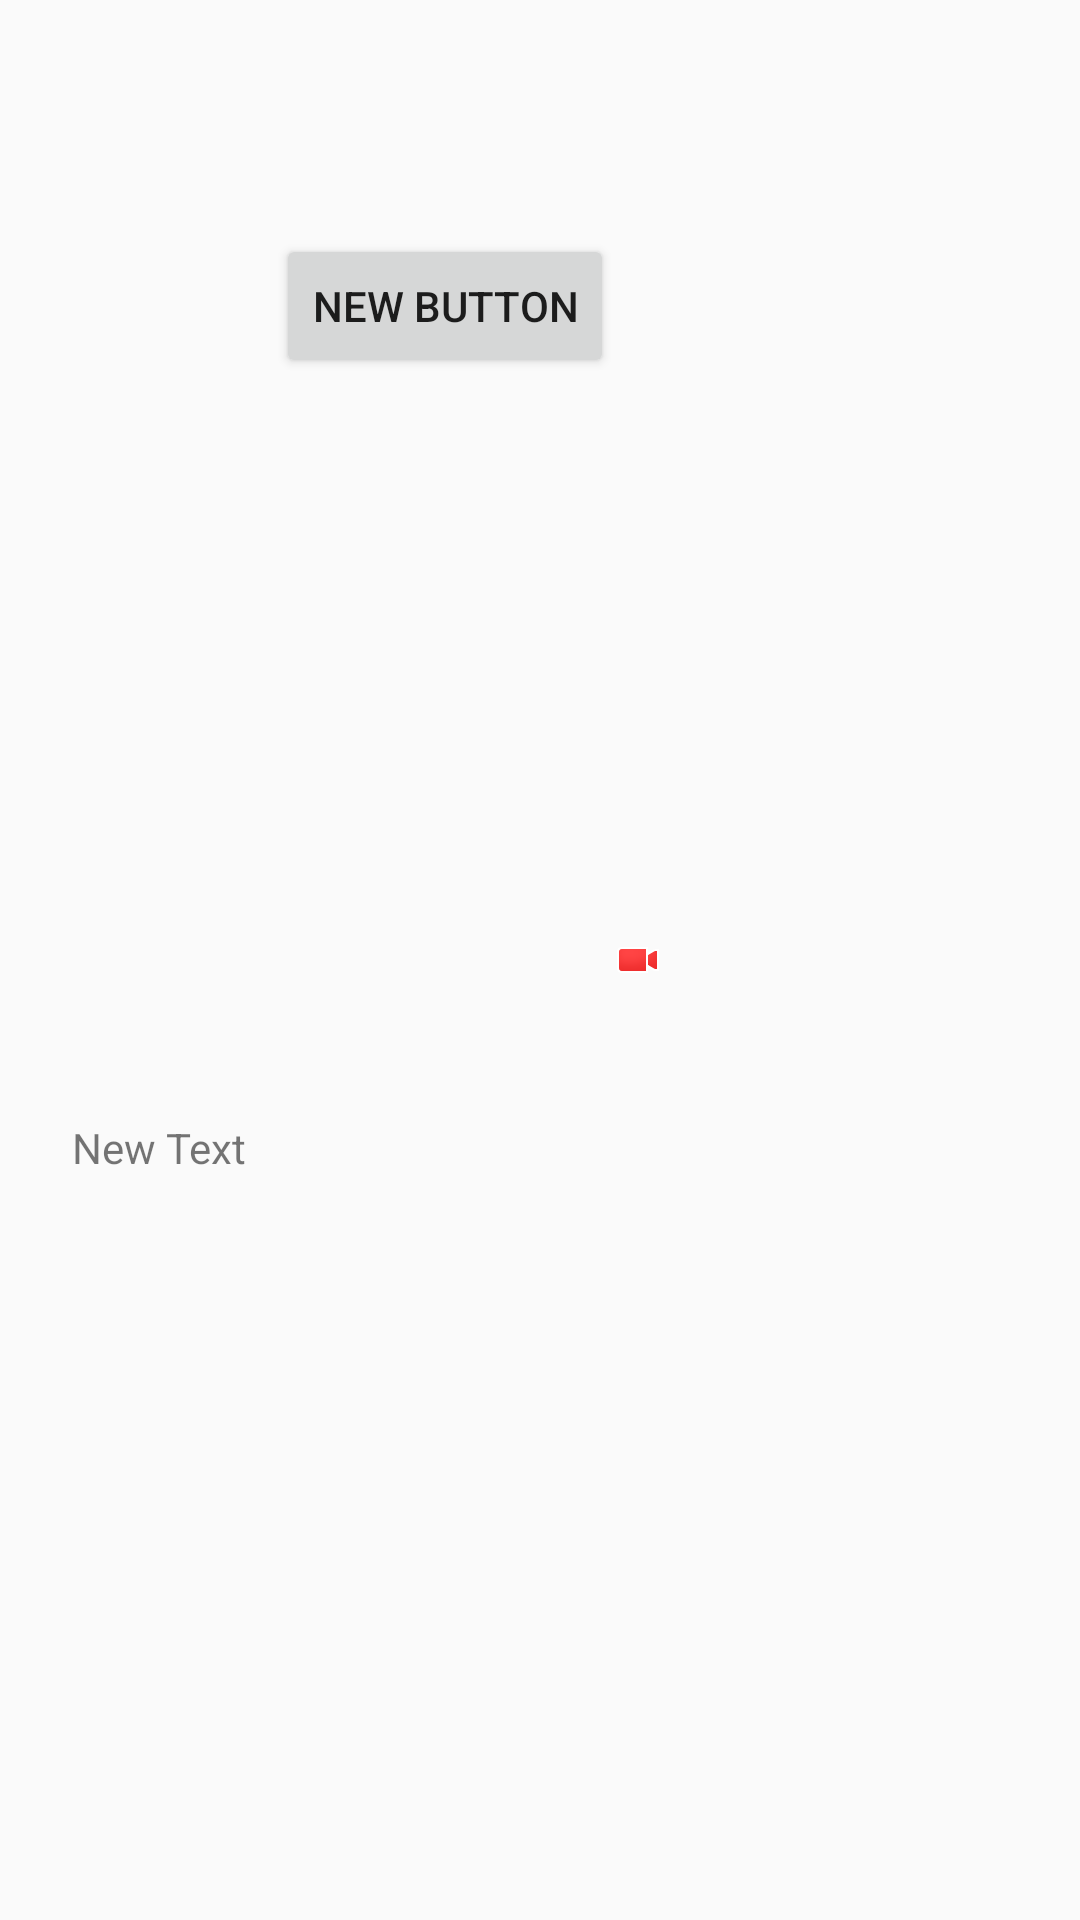

Locate icon controls on the screen. Image size 1080w x 1920h, boxes as (x1, y1, x2, y2).
presence video busy: (619, 949, 657, 971)
